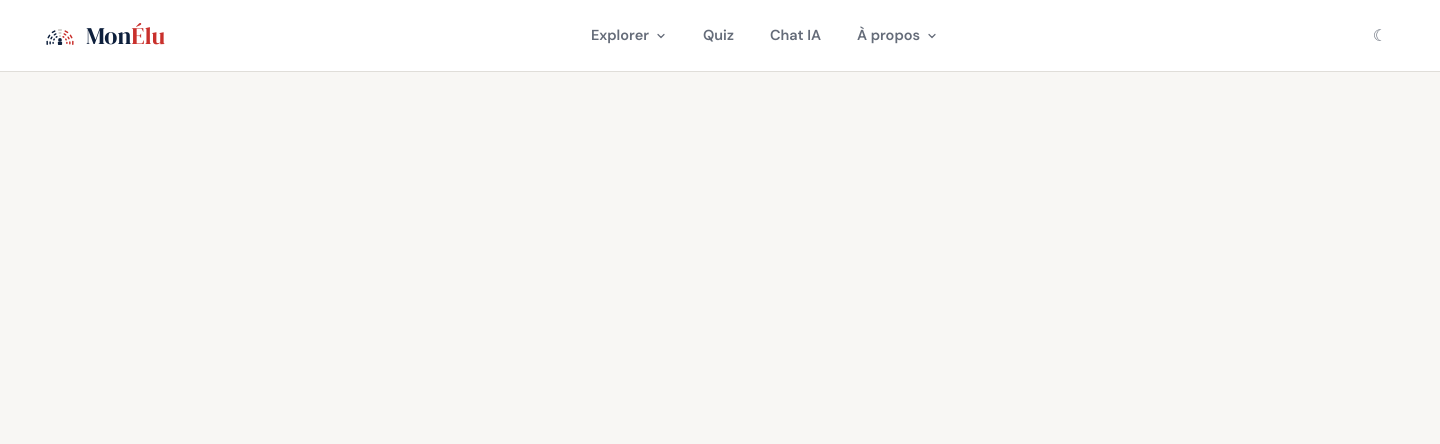
Test: Nav › opens the Explorer menu on click and marks it expanded
The width and height of the screenshot is (1440, 444).
Click the button "Explorer".
click(629, 36)  # box [591,25,667,46]
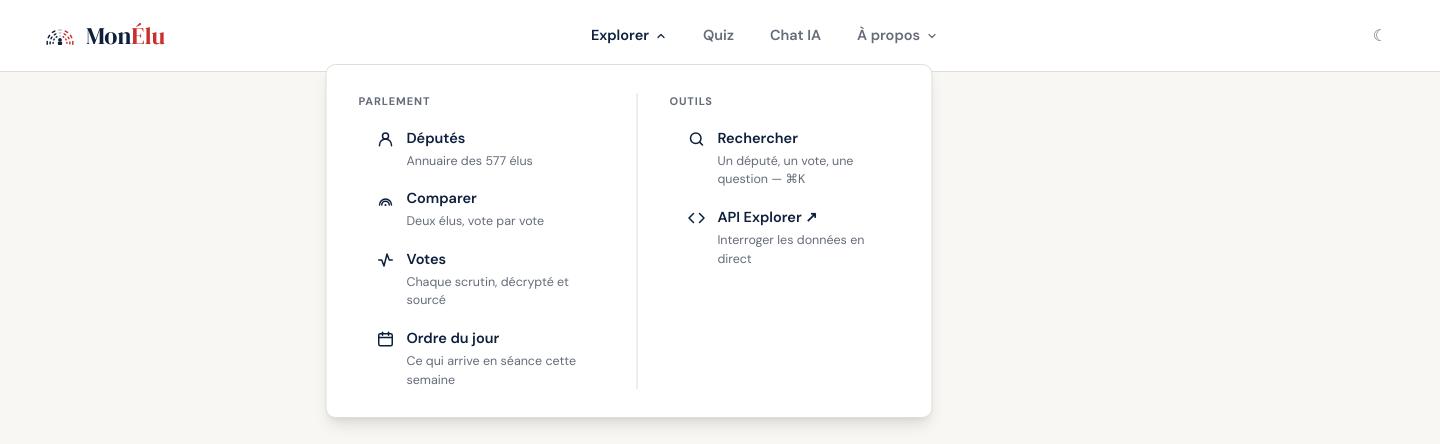
Expected: the button "Explorer" is expanded, [591,25,667,46]
